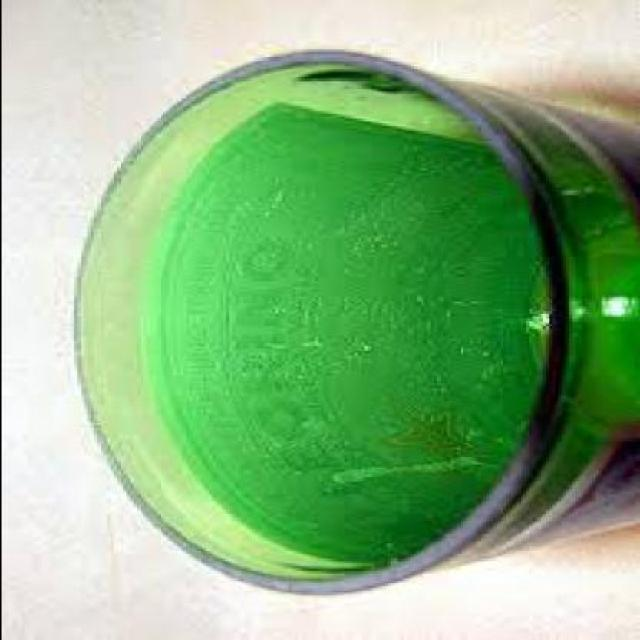GLASS: (66, 49, 637, 594)
